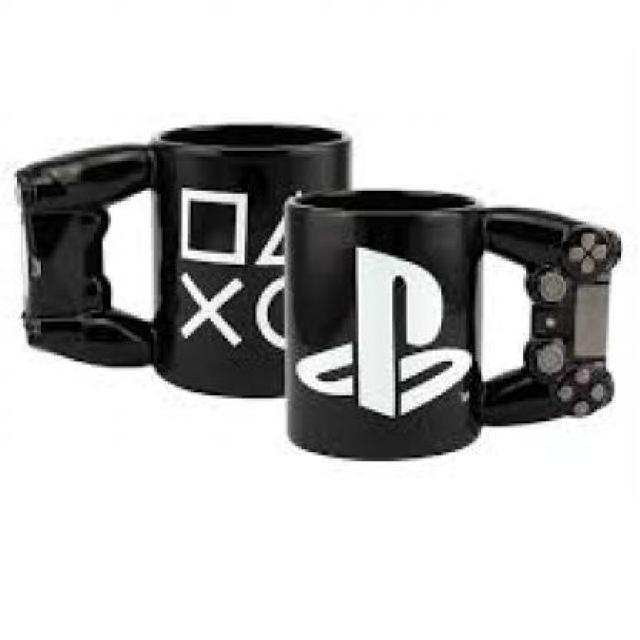cup: (9, 114, 373, 407), (278, 182, 628, 468)
